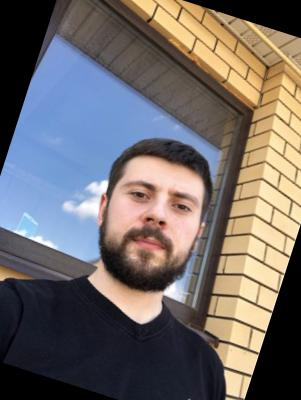without_mask: (86, 165, 212, 304)
